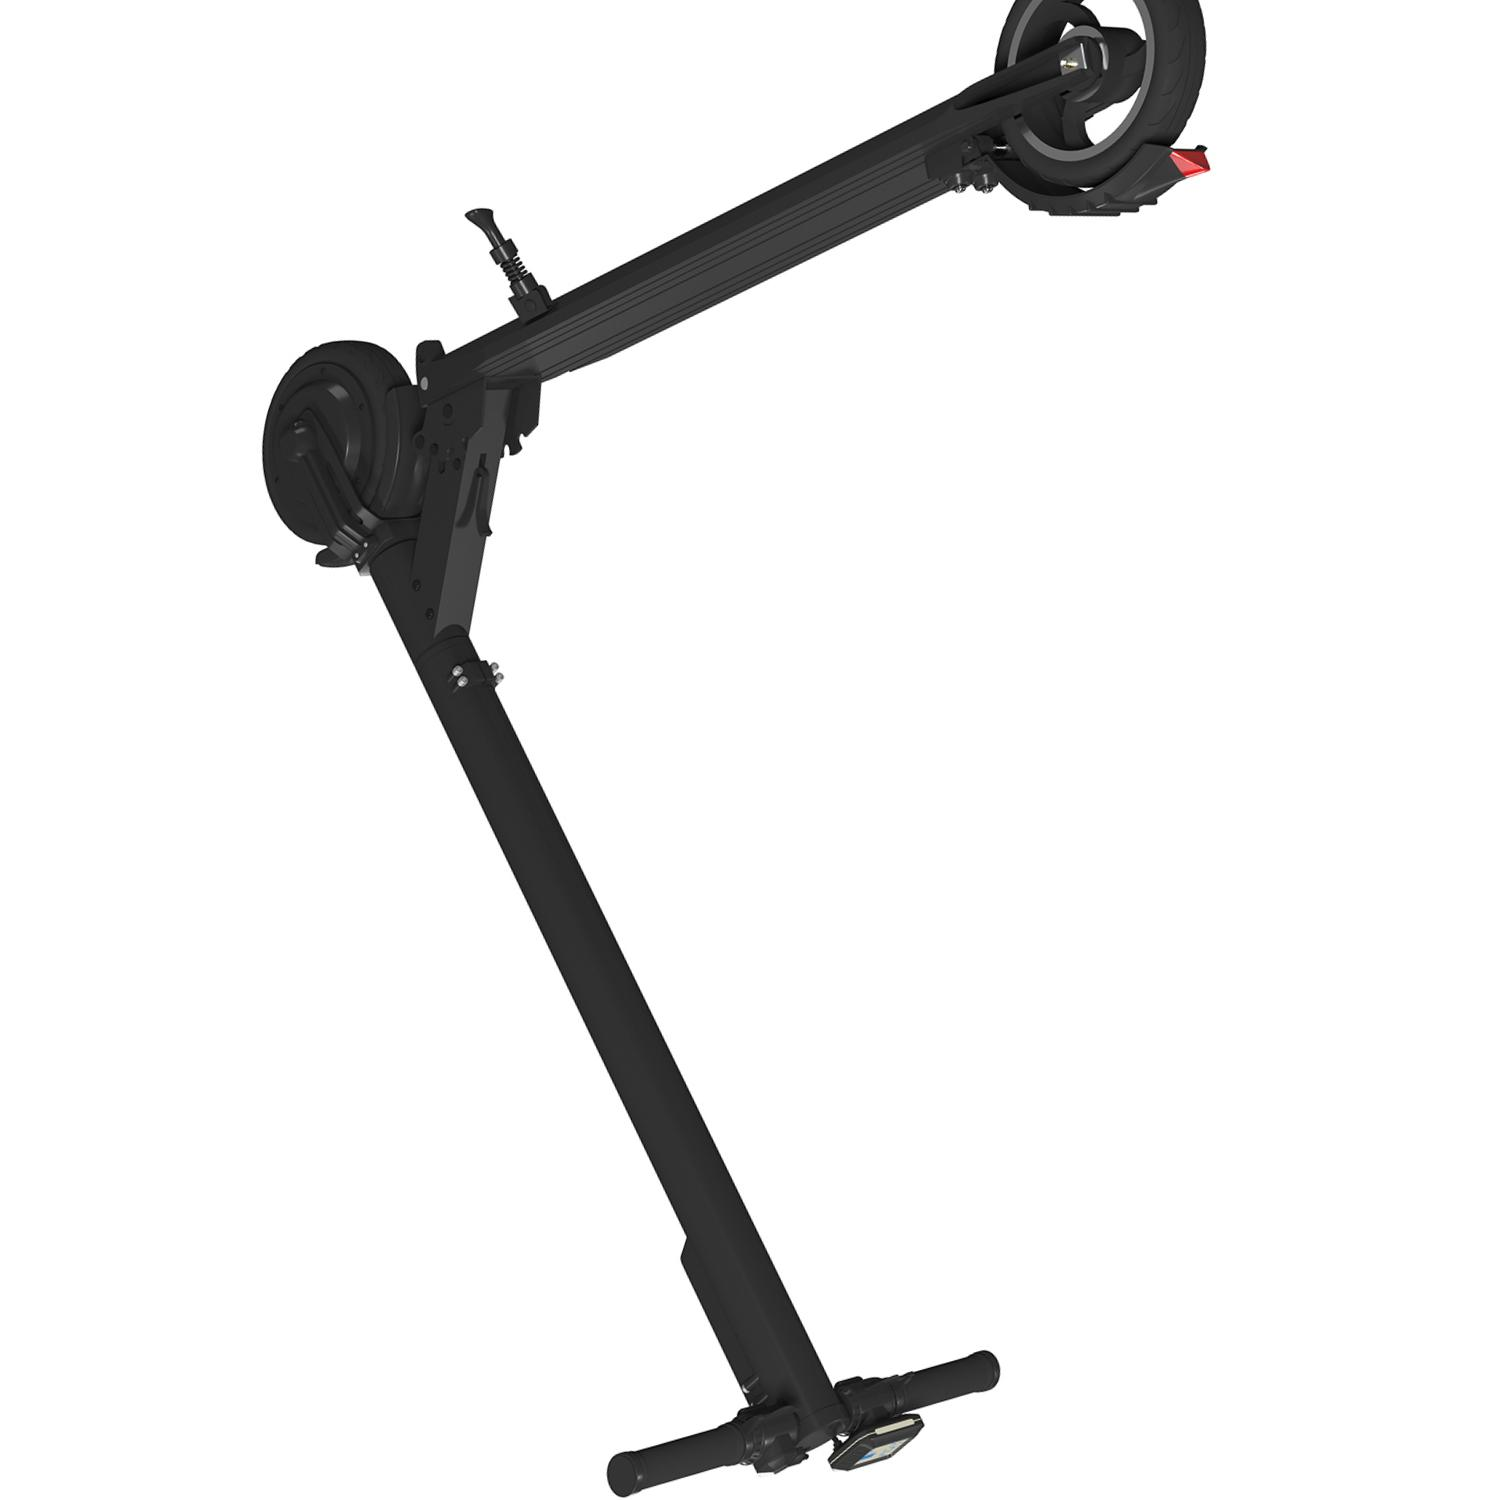scooter: (260, 1, 1210, 1499)
